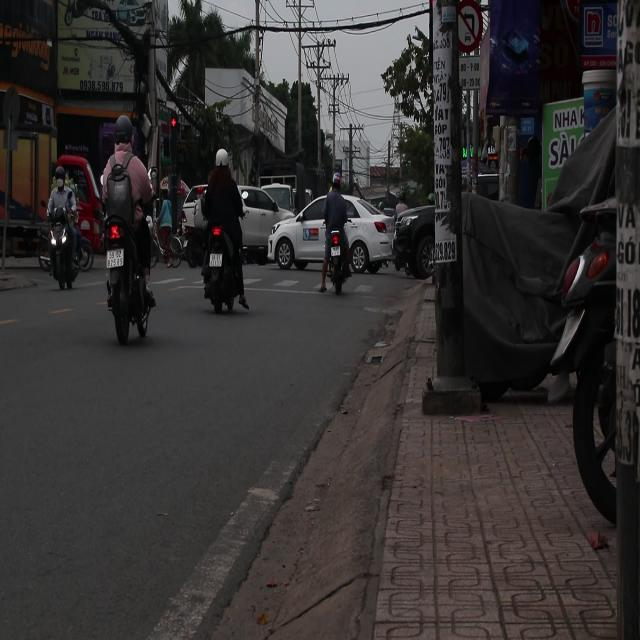car: (265, 191, 400, 278), (196, 172, 290, 268), (393, 203, 435, 279)
motorbike: (105, 252, 155, 344), (198, 210, 240, 314), (42, 211, 88, 288), (322, 220, 354, 300)
